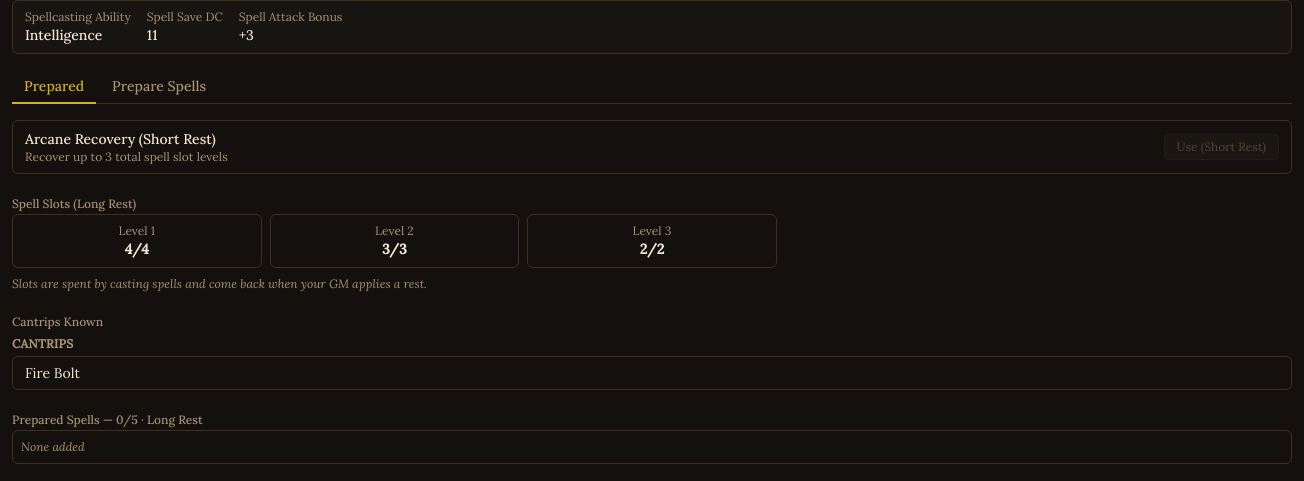
Test case: WizardSheet lock/unlock mechanics › chips are disabled when player is locked
Click the button "Prepare Spells".
click(159, 87)  # box 100,70 -> 218,104
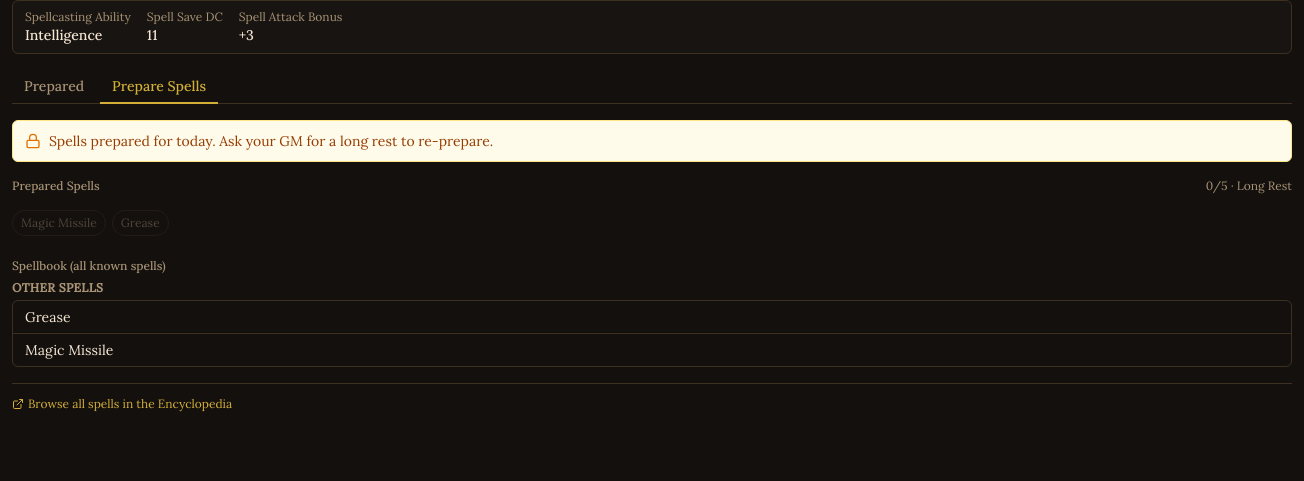
Check: the 1st button "Magic Missile" is disabled, box 12,210 -> 106,236
Check: the 1st button "Grease" is disabled, box 112,210 -> 169,236
